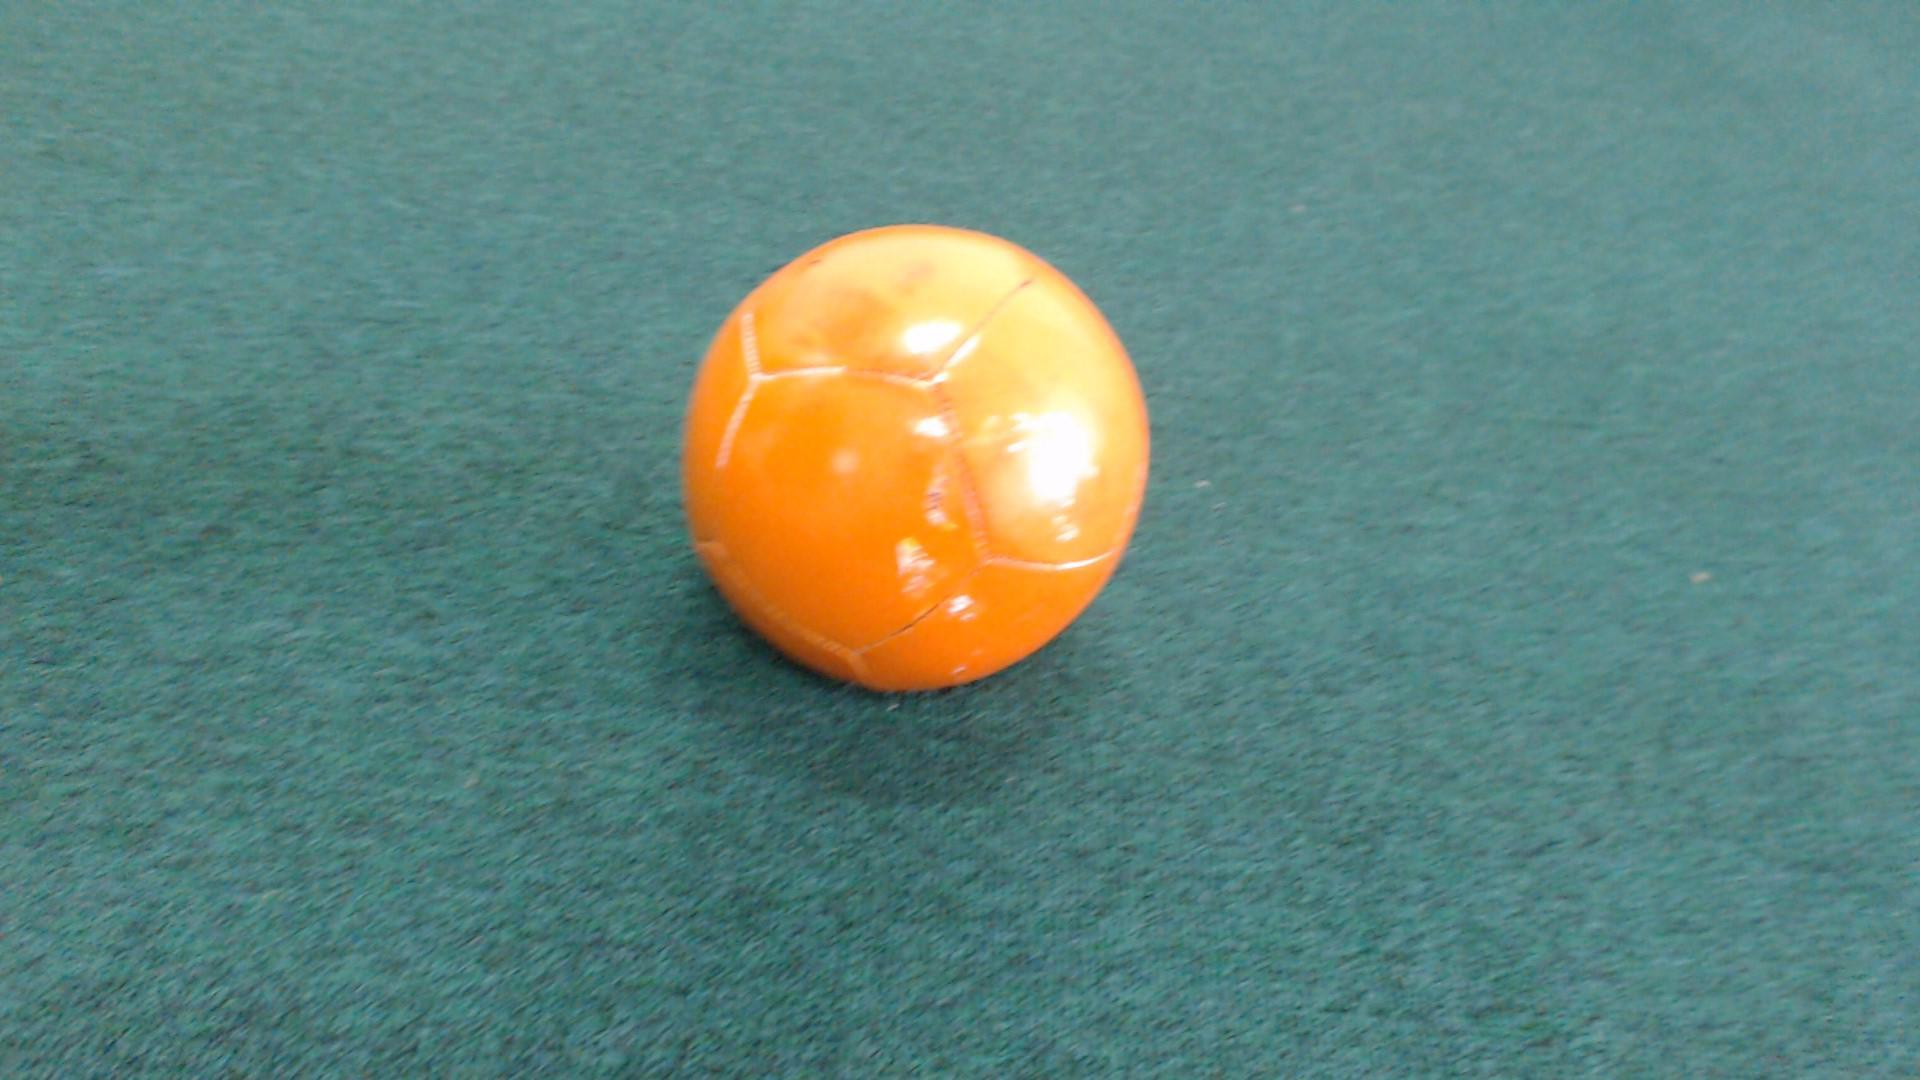bola: (659, 200, 1176, 724)
